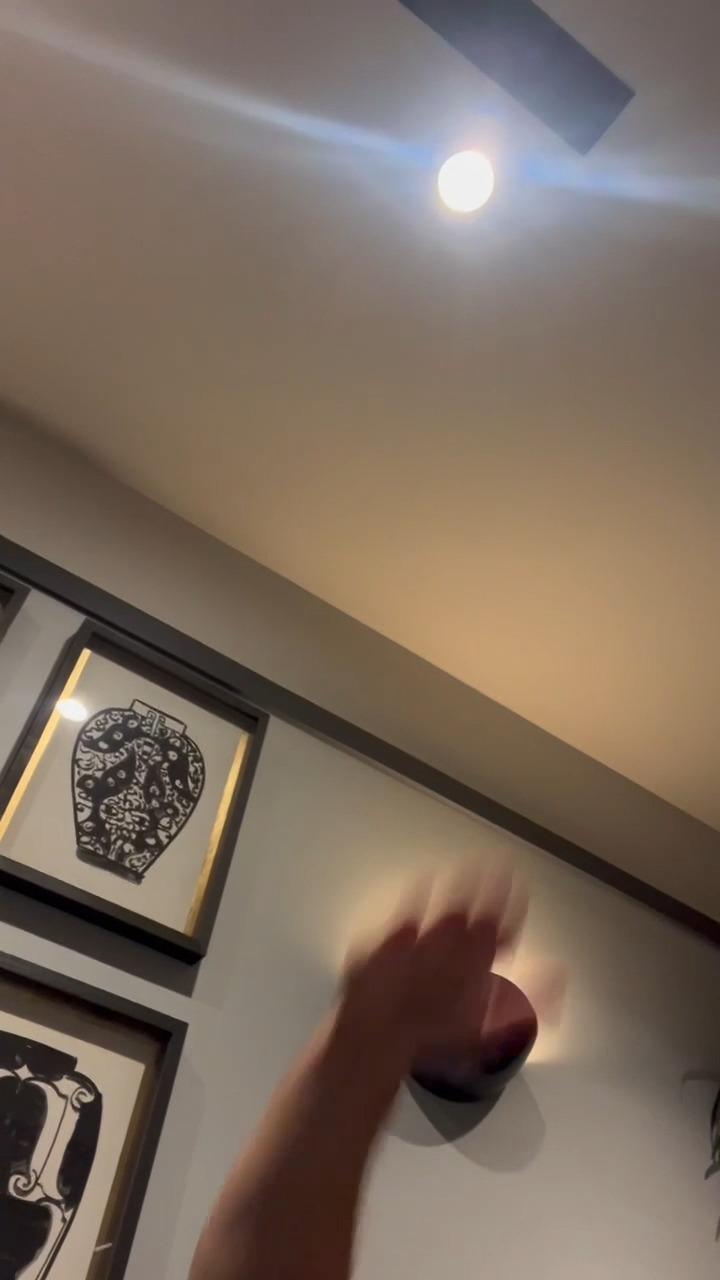Paper: (334, 857, 565, 1085)
